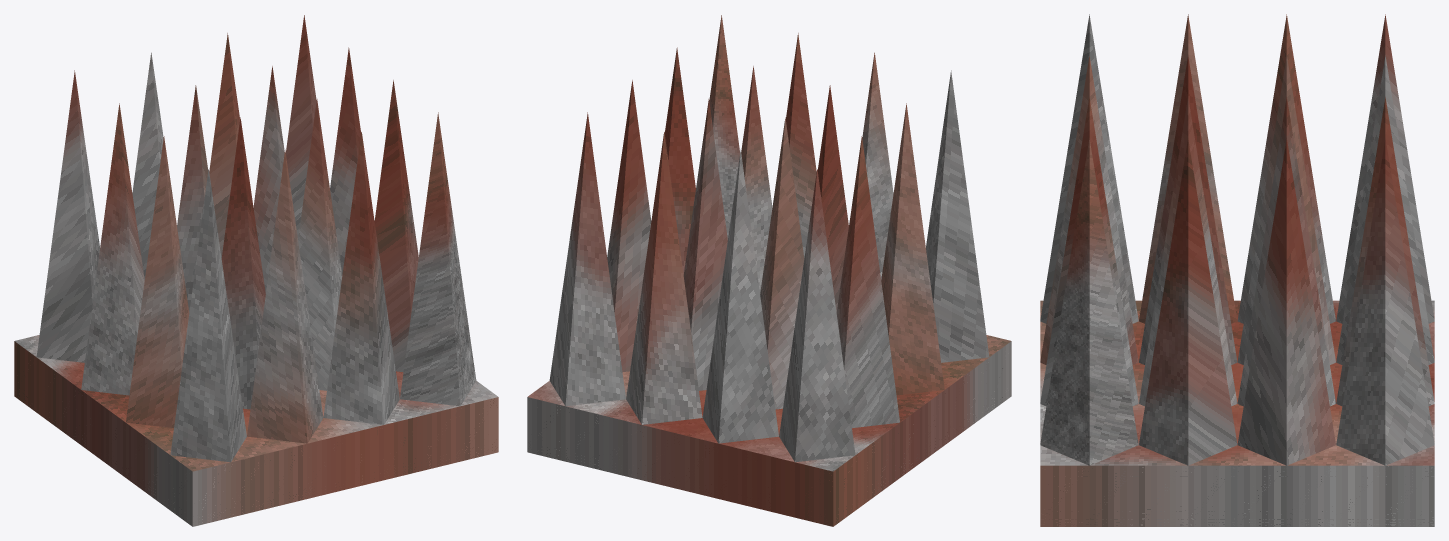
File: spikepit.glb
The picture shows the model from 3 angles, left to right: view 1: azimuth 30°, elevation 25°; view 2: azimuth 150°, elevation 25°; view 3: azimuth 270°, elevation 25°; orthographic projection. The views are drawn at different scales.
Visible parts, largest first — view 1: Spikes; view 2: Spikes; view 3: Spikes.
Part boxes in pixels (left/top/right/bottom): Spikes: left=14, top=15, right=498, bottom=526; Spikes: left=527, top=15, right=1011, bottom=526; Spikes: left=1040, top=14, right=1434, bottom=526.
Size of the model in its own units: 1.96 by 2.04 by 1.98.
1 material, 1 textured.
